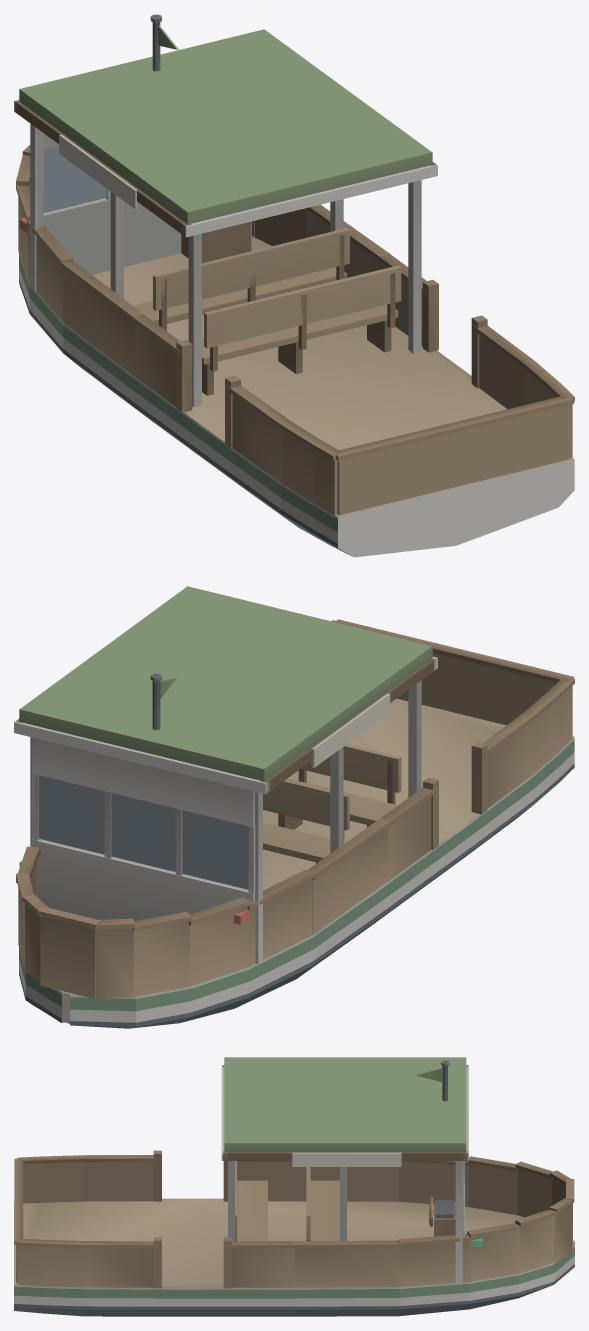
Rendered from ferry_low.glb.
The picture shows the model from 3 angles, top to bottom: view 1: azimuth 30°, elevation 25°; view 2: azimuth 150°, elevation 25°; view 3: azimuth 270°, elevation 25°; orthographic projection. The views are drawn at different scales.
Visible parts, largest first — view 1: ferry; view 2: ferry; view 3: ferry.
Boxes of the visible parts, x1=… form: ferry: x1=14, y1=14, x2=574, y2=557; ferry: x1=14, y1=586, x2=574, y2=1028; ferry: x1=14, y1=1057, x2=574, y2=1316.
Size of the model in its own units: 3.05 by 3.6 by 8.
